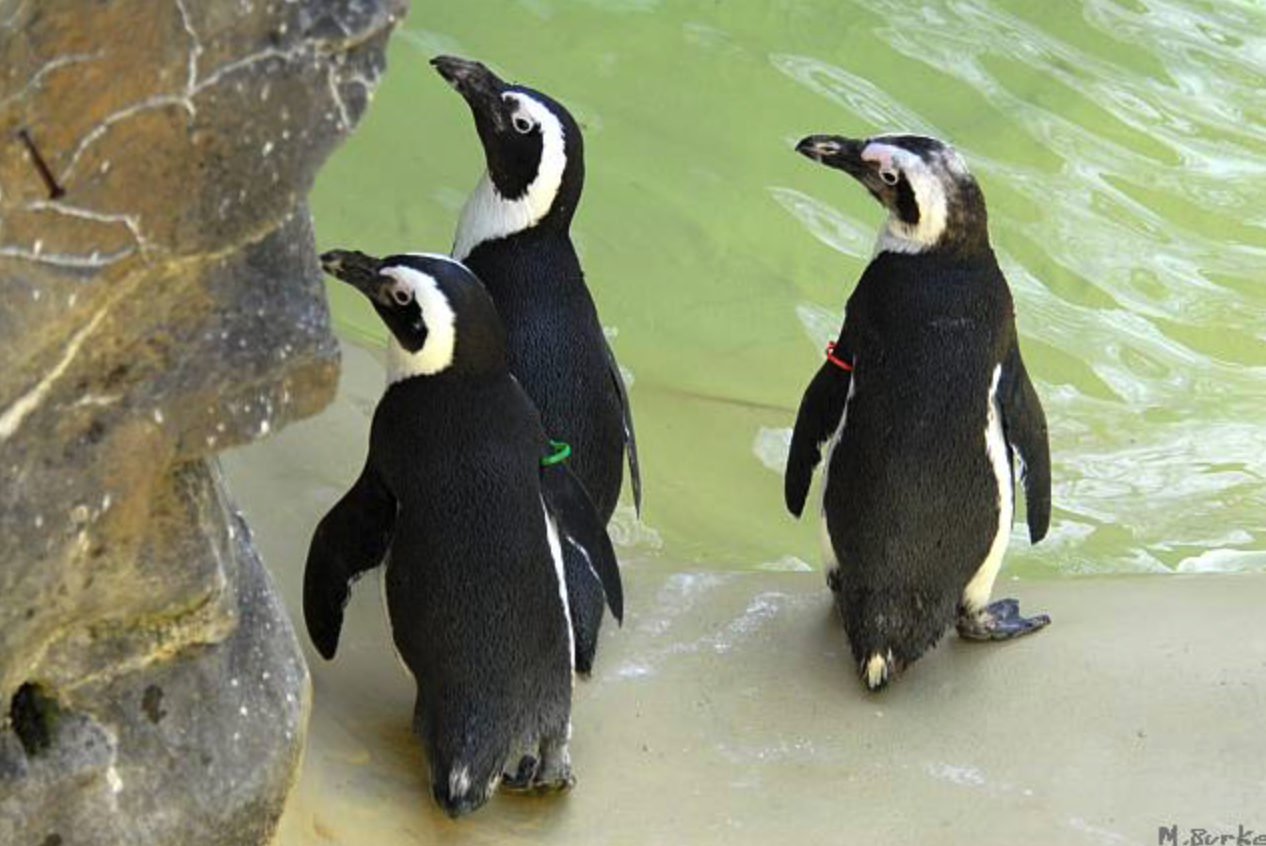penguin: (309, 243, 593, 808), (780, 128, 1059, 693), (417, 48, 644, 660)
